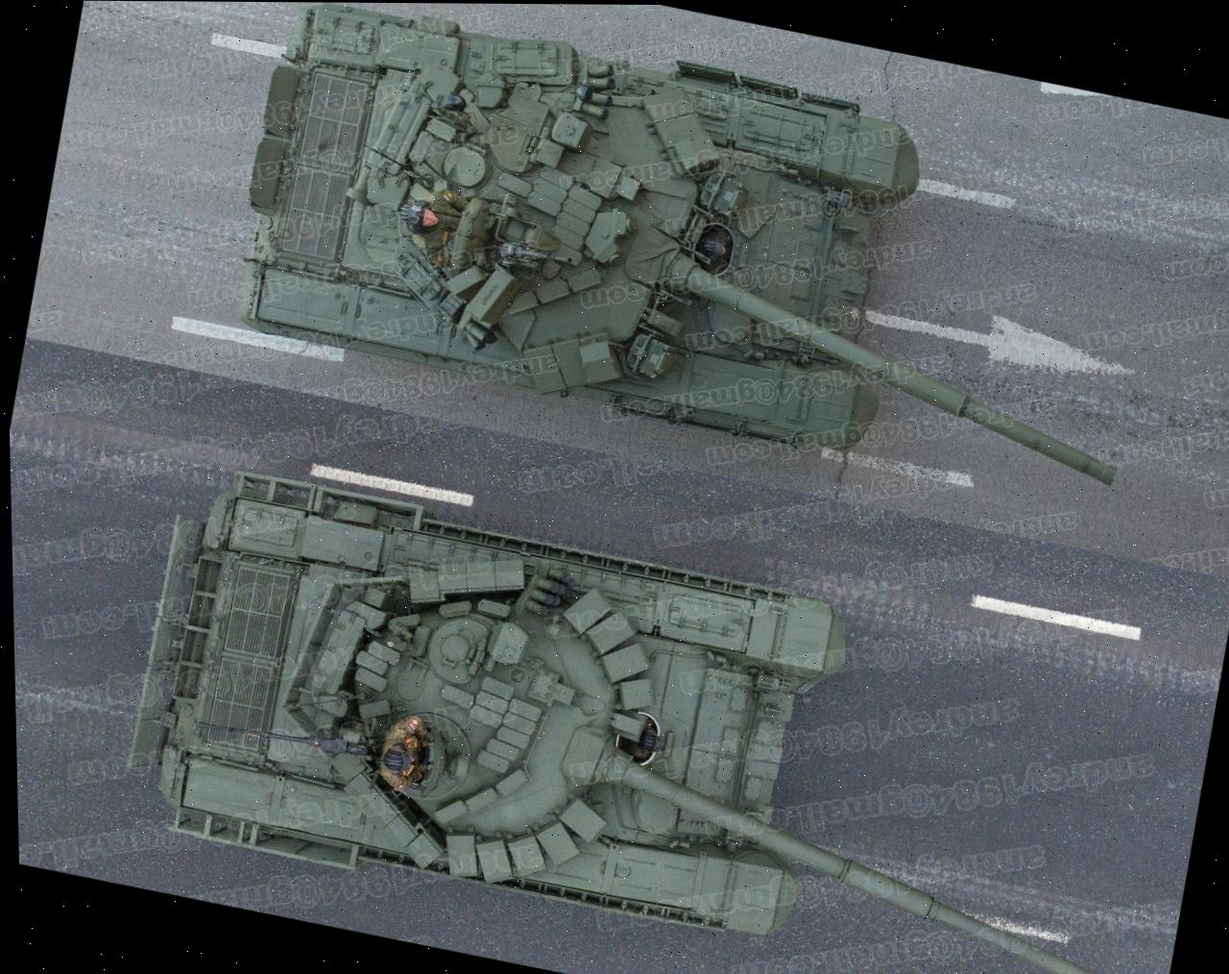tank: (106, 444, 1183, 974), (211, 2, 1197, 524)
